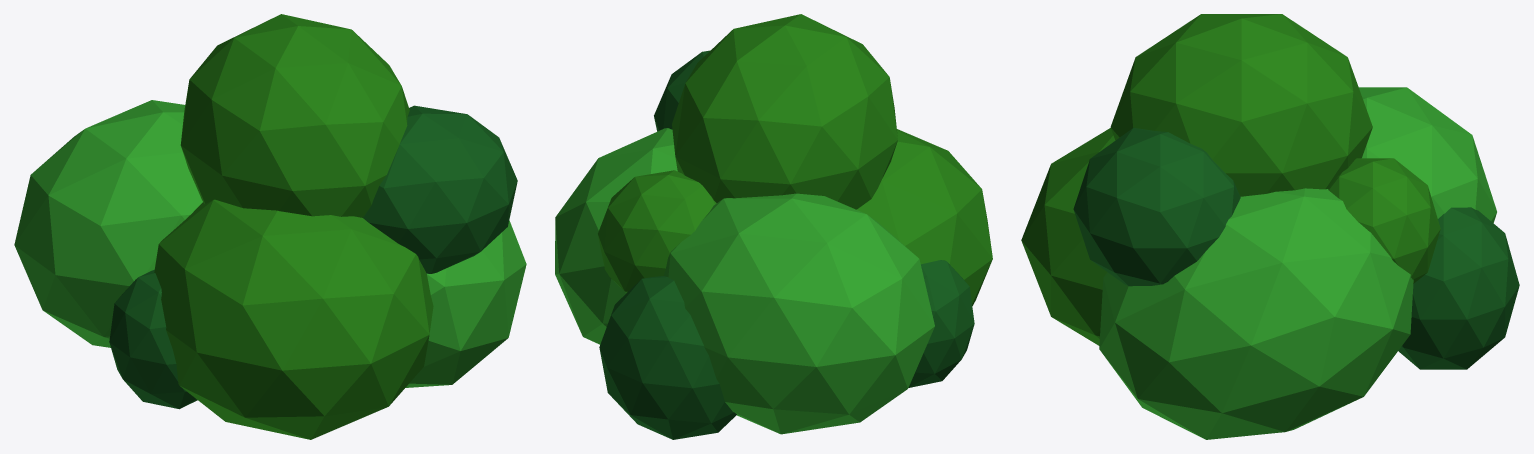
Rendered from Arbusto.fbx.
The picture shows the model from 3 angles, left to right: view 1: azimuth 30°, elevation 25°; view 2: azimuth 150°, elevation 25°; view 3: azimuth 270°, elevation 25°; orthographic projection. The views are drawn at different scales.
Parts seen in each view (by area): view 1: Icosphere.002; view 2: Icosphere.002; view 3: Icosphere.002.
Boxes of the visible parts, bbox=[...] form: Icosphere.002: bbox=[14, 14, 526, 439]; Icosphere.002: bbox=[555, 14, 992, 439]; Icosphere.002: bbox=[1021, 14, 1519, 439].
Size of the model in its own units: 0.6075 by 0.5247 by 0.6552.
